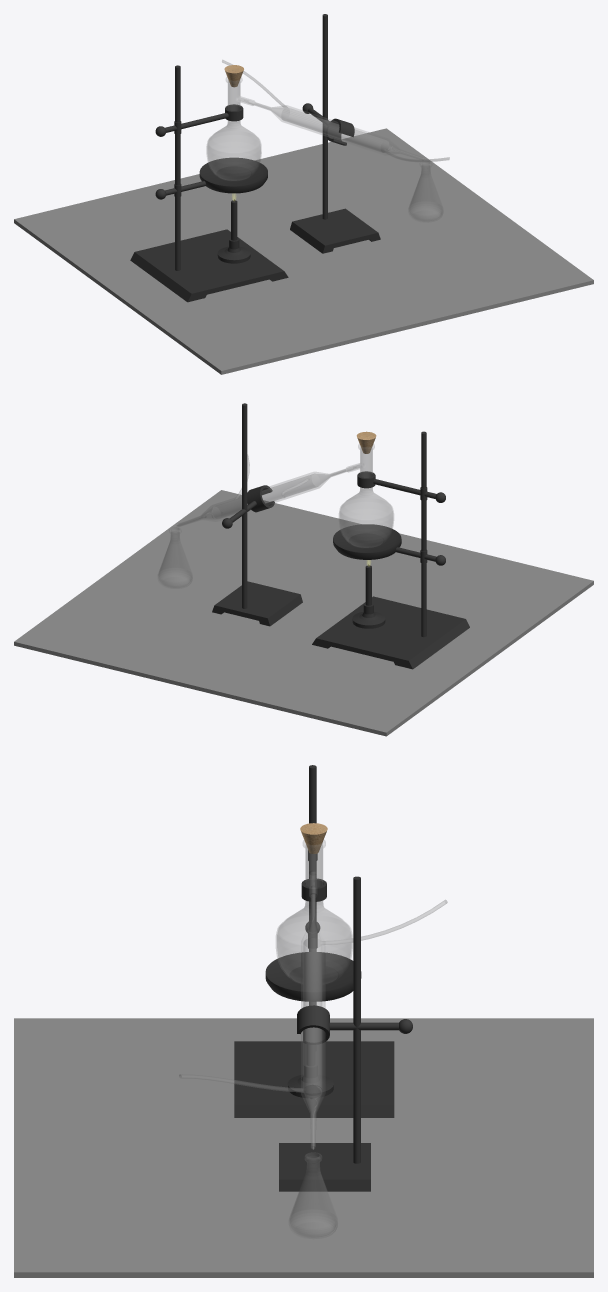
File: condenser.glb
3 renders of one model, top to bottom at view 1: azimuth 30°, elevation 25°; view 2: azimuth 150°, elevation 25°; view 3: azimuth 270°, elevation 25°, orthographic. The views are drawn at different scales.
Parts seen in each view (by area): view 1: Box001, Base_do_Apoio, Line002, Base_do_Apoio001, Tube004, Cylinder004, Cylinder007, Line005, Cylinder005, Cylinder001, Fogareiro, Tube006; view 2: Box001, Base_do_Apoio, Line002, Base_do_Apoio001, Cylinder004, Tube004, Line005, Cylinder005, Cylinder001, Cylinder007, Fogareiro, Tube006; view 3: Box001, Base_do_Apoio, Line002, Base_do_Apoio001, Tube004, Cylinder004, Line005, Cylinder007, Cylinder005, Fogareiro, Tube006, Cylinder001.
Part boxes in pixels (x1,y1,x2,y2): Box001: [14, 128, 593, 374]; Base_do_Apoio: [130, 229, 288, 302]; Line002: [206, 77, 261, 180]; Base_do_Apoio001: [290, 208, 380, 253]; Tube004: [248, 100, 424, 159]; Cylinder004: [199, 157, 267, 193]; Cylinder007: [282, 108, 388, 152]; Line005: [408, 161, 443, 222]; Cylinder005: [322, 14, 327, 219]; Cylinder001: [175, 65, 180, 270]; Fogareiro: [217, 200, 250, 263]; Tube006: [326, 118, 354, 145]; Box001: [14, 490, 593, 736]; Base_do_Apoio: [312, 596, 469, 669]; Line002: [339, 444, 393, 547]; Base_do_Apoio001: [212, 581, 302, 626]; Cylinder004: [333, 524, 401, 559]; Tube004: [177, 467, 353, 526]; Line005: [158, 527, 192, 588]; Cylinder005: [242, 403, 247, 608]; Cylinder001: [421, 431, 426, 637]; Cylinder007: [212, 474, 319, 518]; Fogareiro: [352, 565, 385, 628]; Tube006: [247, 485, 274, 512]; Box001: [14, 1018, 593, 1277]; Base_do_Apoio: [234, 1041, 394, 1117]; Line002: [276, 840, 352, 984]; Base_do_Apoio001: [279, 1143, 370, 1191]; Tube004: [301, 886, 325, 1148]; Cylinder004: [265, 952, 361, 1001]; Line005: [289, 1152, 337, 1238]; Cylinder007: [303, 938, 321, 1095]; Cylinder005: [353, 876, 360, 1163]; Fogareiro: [287, 1044, 333, 1098]; Tube006: [297, 1005, 329, 1044]; Cylinder001: [309, 765, 316, 1051].
Size of the model in its own units: 23.98 by 13.2 by 23.12.
Materials: 7 (1 with a texture image).
